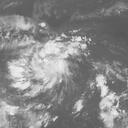cyclone: (7, 46, 69, 94)
